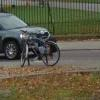Bicycle: (18, 25, 62, 73)
